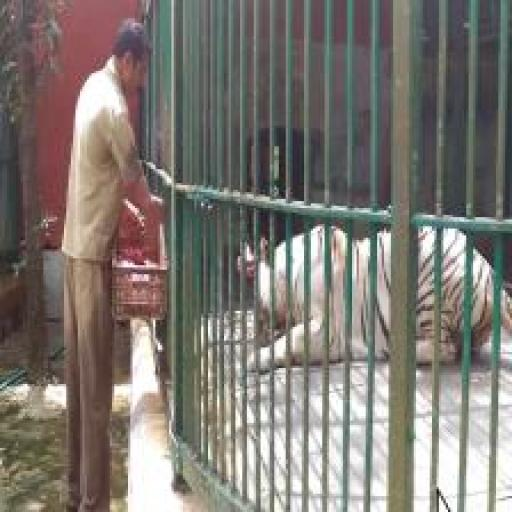Tiger: (441, 229, 466, 363), (416, 228, 435, 364), (351, 238, 370, 359), (330, 226, 347, 360), (472, 249, 494, 350), (375, 231, 391, 359), (310, 226, 325, 362), (292, 235, 304, 364), (259, 236, 270, 372), (275, 242, 286, 368), (501, 290, 512, 335)
